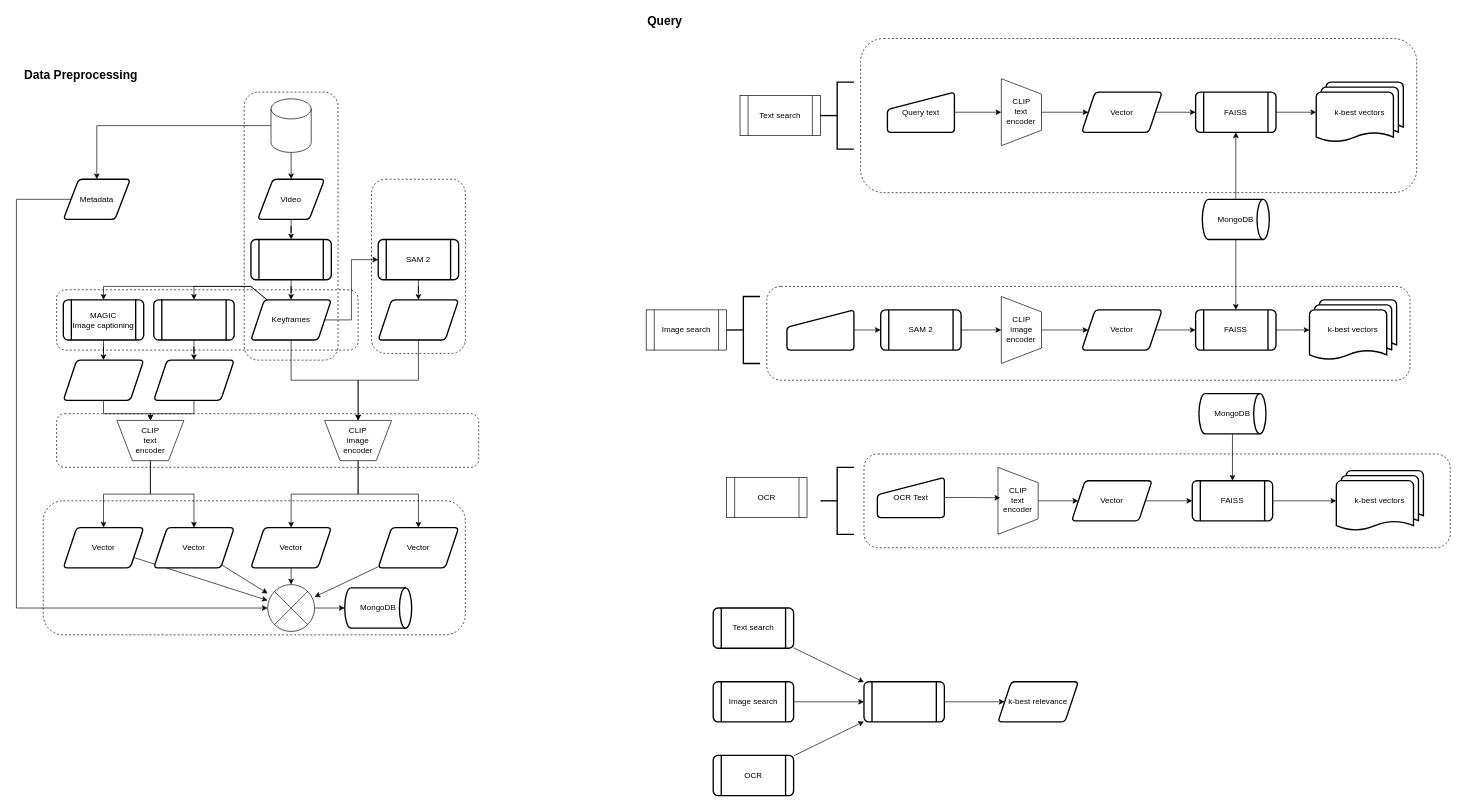
This 1462x807 diagram has some shape labels left out. Here are the shapes that lost their labels. From the top down, the centre of each, then its label:
At [290,125]: "Data".
At [291,259]: "Transnet v2".
At [193,319]: "Pix2Text OCR Model".
At [418,319]: "Images".
At [820,329]: "Image".
At [103,380]: "Description".
At [193,380]: "Text".
At [904,701]: "TOMS".
